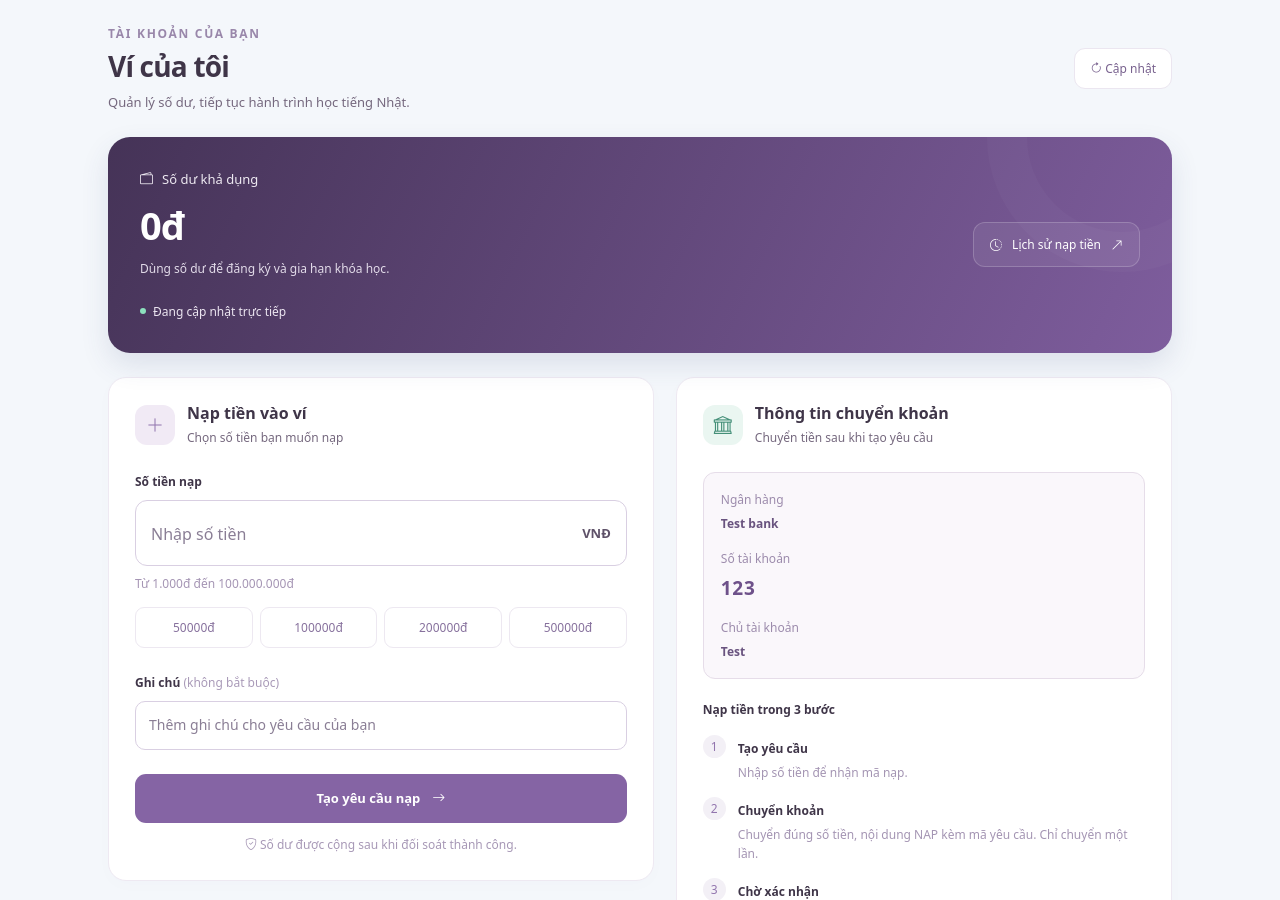
Test: manual wallet deposits › loads without a sessionStorage userId and does not claim money was credited
This screenshot has width=1280, height=900.
Type "10000" into the number field with id "amount".
click(381, 533); type("10000")  # box [135,500,627,566]
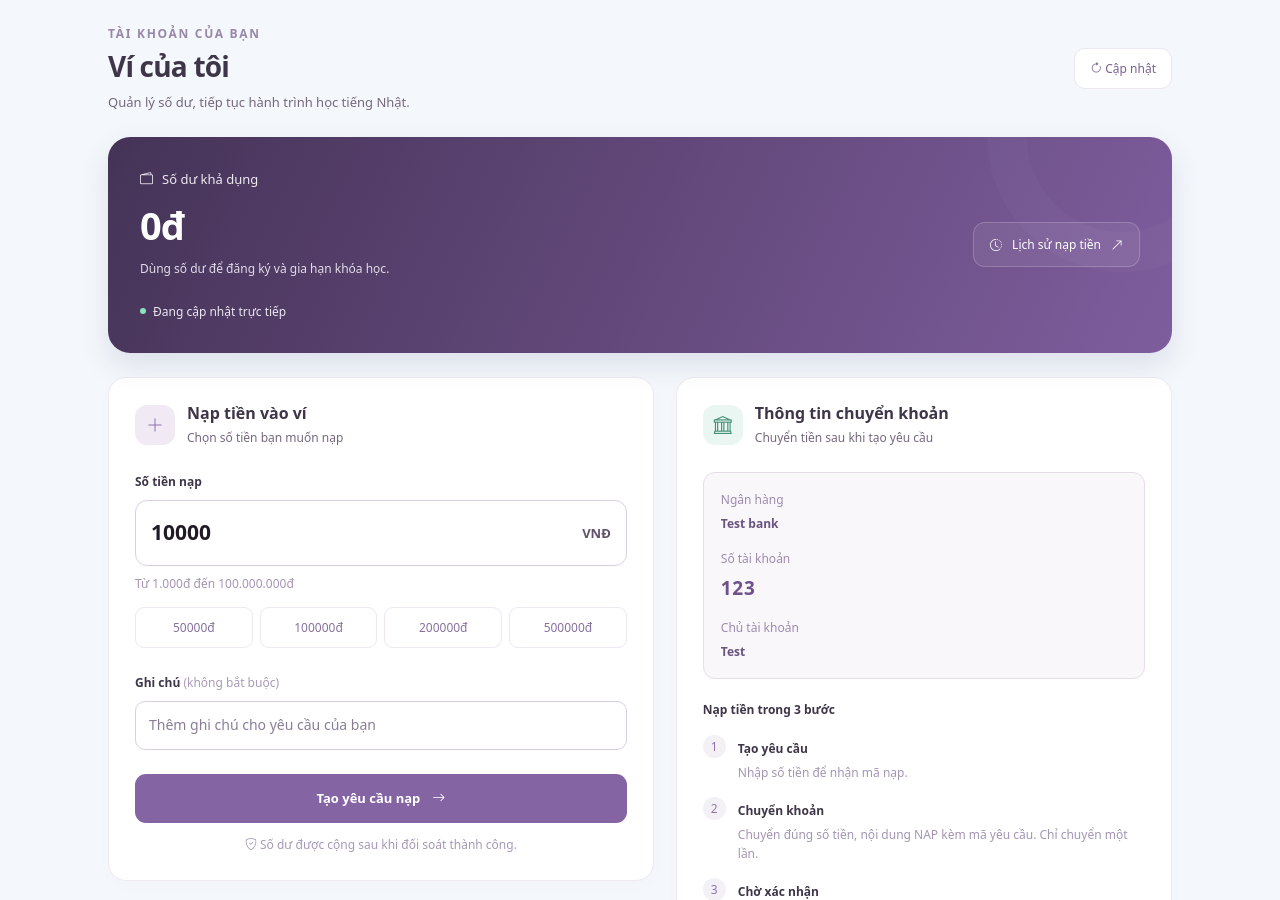
Submit the form, box [135,472,627,854]
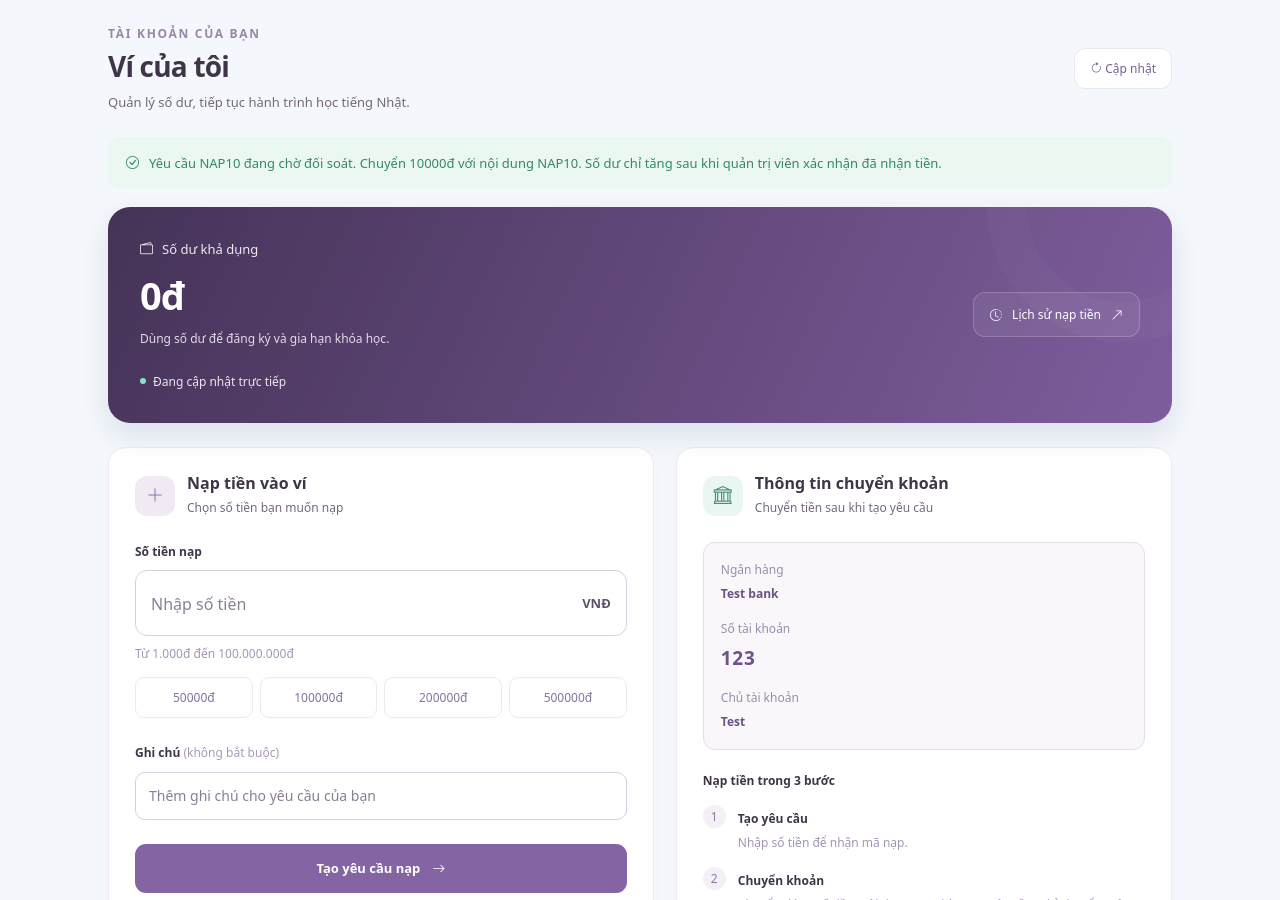
Expected: the text "0đ" is shown, [149,152,942,174]
Now the text "chờ đối soát" is shown, box [149,154,942,172]
